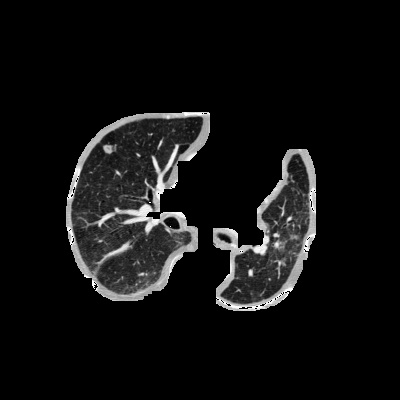PN: (104, 144, 114, 154)
